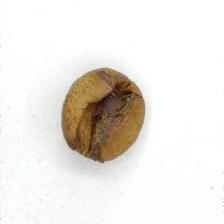NG: (75, 78, 132, 154)
